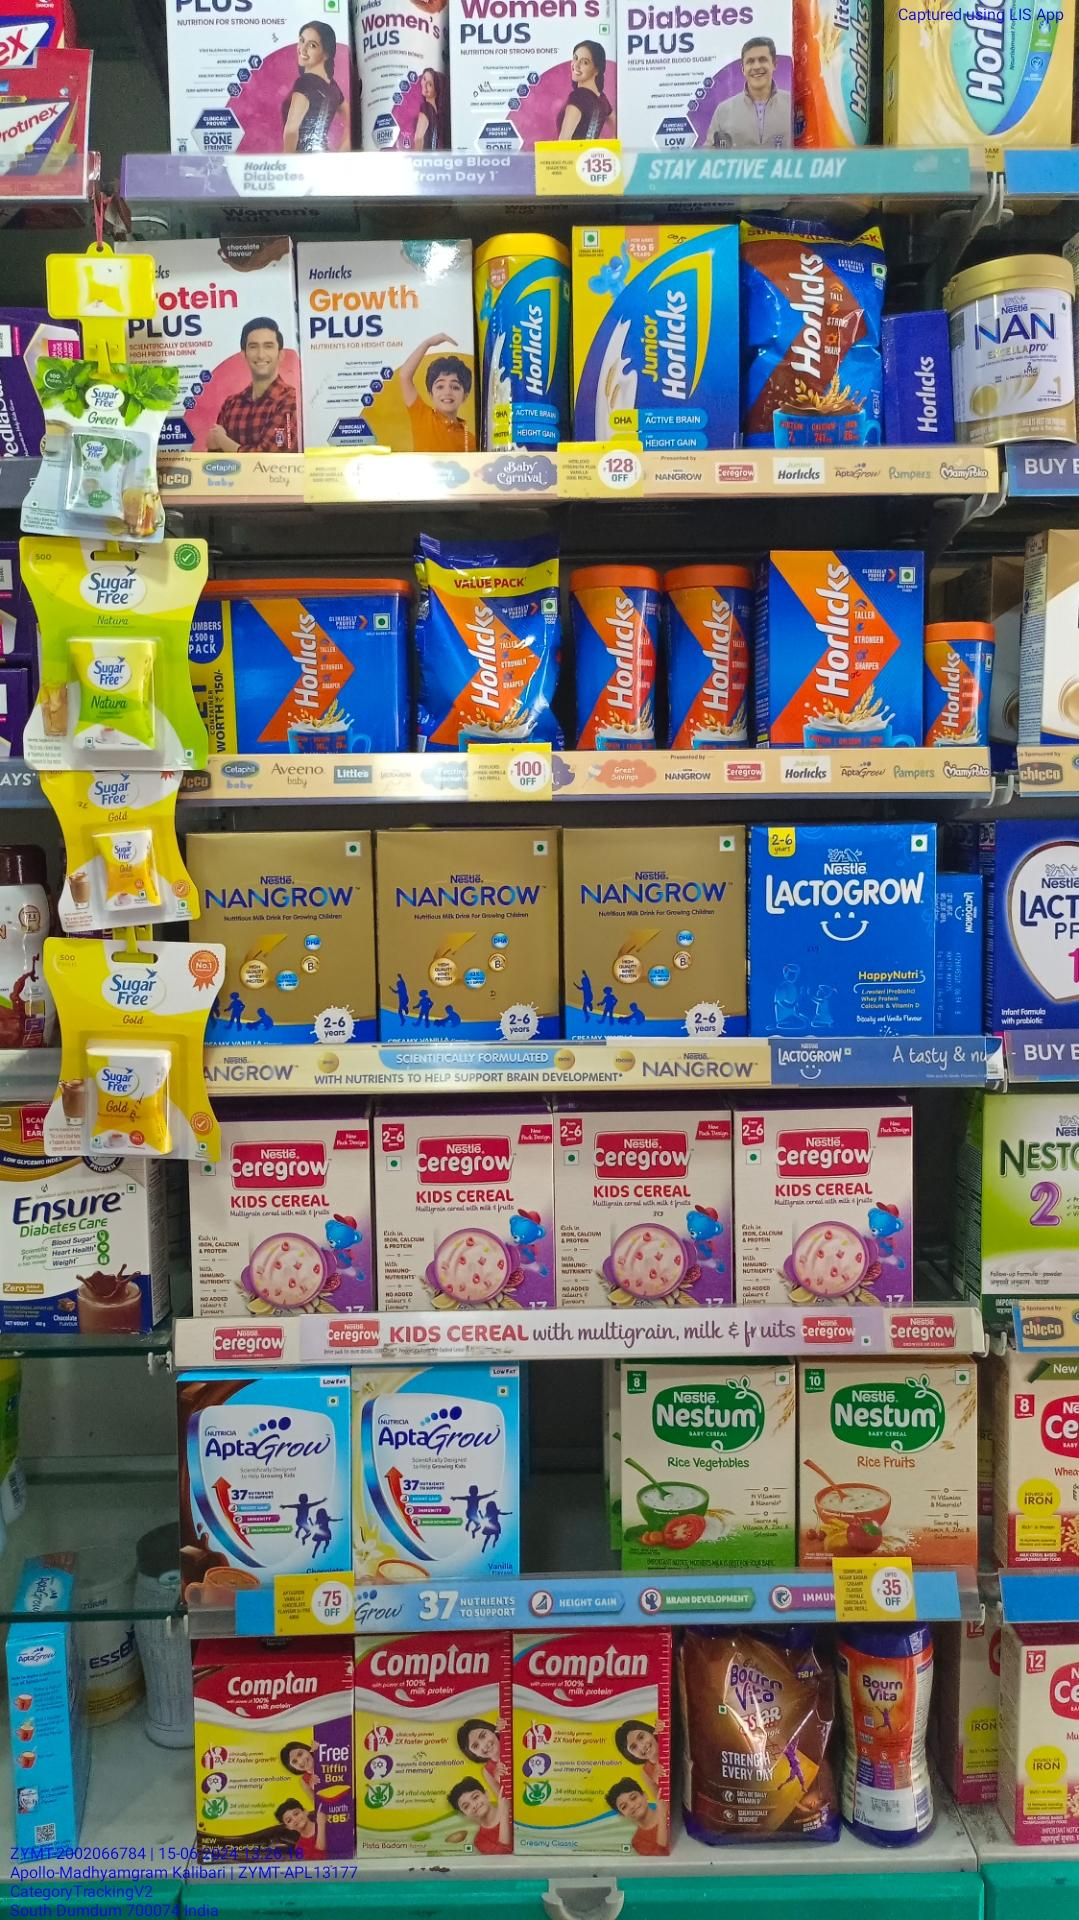BOURN_VITA_FIVE_STAR_MAGIC_750_G_POUCH: (685, 1627, 840, 1847)
COMPLAN_CHOCOLATE_500_GMS_PACK: (194, 1664, 352, 1862)
COMPLAN_CREAMY_CLASSIC_500_G_PACK: (513, 1634, 670, 1855)
COMPLAN_PISTA_BADAM_500_GMS_PACK: (356, 1638, 509, 1854)
HORLICKS_JUNIOR_VANILLA_500_GM_JAR: (478, 239, 565, 443)
HORLICK_CHOCOLATE_750_G_POUCH: (748, 220, 888, 446)
HORLICK_CLASSIC_MALT_200_G_JAR: (930, 624, 989, 746)
HORLICK_CLASSIC_MALT_500_G_JAR: (571, 570, 660, 750), (665, 567, 751, 750)
HORLICK_CLASSIC_MALT_500_G_PACK: (766, 546, 925, 748)
HORLICK_MALT_1_KG_CONTAINER: (210, 576, 405, 754)
